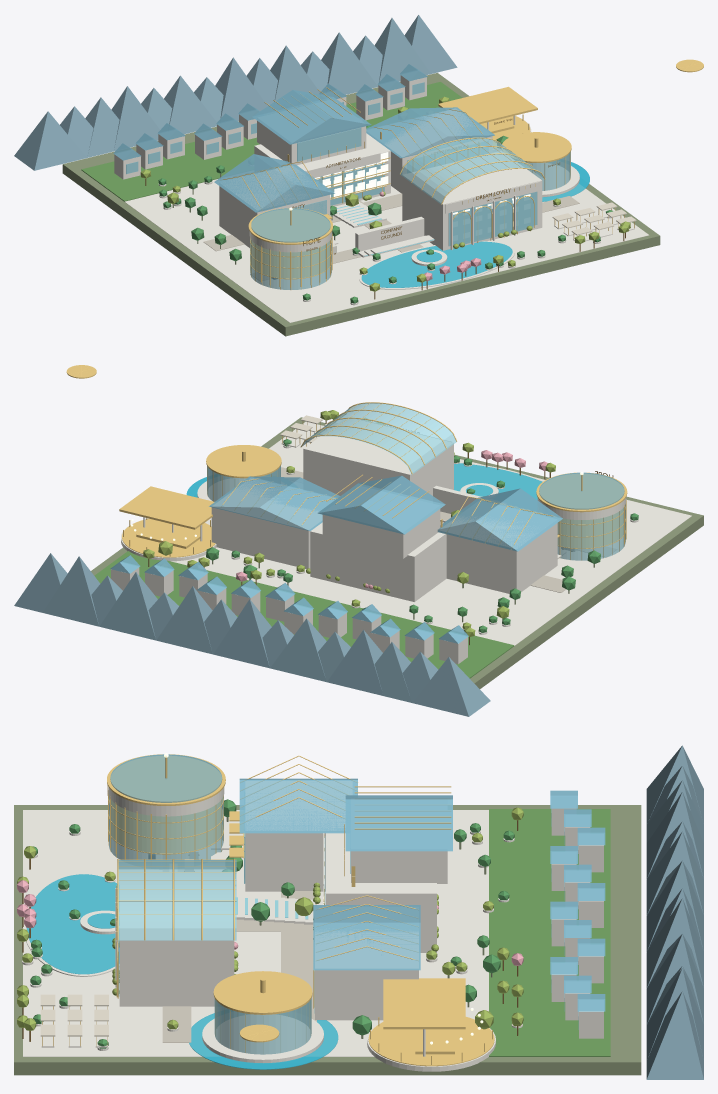
The model's file is weave-company-grounds.glb.
3 views of the same model, one above another, from view 1: azimuth 30°, elevation 25°; view 2: azimuth 150°, elevation 25°; view 3: azimuth 270°, elevation 25° (orthographic). The views are drawn at different scales.
Visible parts, largest first — view 1: ENV_porcelain_campus, ENV_terrain, DREAM_enterprise_ground, ENV_client_estate_hills, DREAM_GLASS_VAULT_CURVED, STABILITY_glass_gable, MANAGEMENT_glass_roof, ADMIN_roof_atrium, WATER_elliptical_marble_rim, WATER_central_lagoon, STABILITY_distribution_hall, HOPE_glass_studio (+39 smaller); view 2: ENV_porcelain_campus, DREAM_enterprise_ground, STABILITY_distribution_hall, ADMIN_main_portico, MANAGEMENT_main, ENV_terrain, ENV_client_estate_hills, DREAM_GLASS_VAULT_CURVED, STABILITY_glass_gable, MANAGEMENT_glass_roof, ADMIN_roof_atrium, ADMIN_upper_floor (+34 smaller); view 3: ENV_porcelain_campus, ENV_terrain, ENV_client_estate_hills, DREAM_enterprise_ground, DREAM_GLASS_VAULT_CURVED, STABILITY_distribution_hall, MANAGEMENT_main, MANAGEMENT_glass_roof, WATER_elliptical_marble_rim, WATER_central_lagoon, ADMIN_roof_atrium, STABILITY_glass_gable (+46 smaller).
Boxes of the visible parts, x1=… form: ENV_porcelain_campus: x1=125, y1=179, x2=648, y2=322; ENV_terrain: x1=62, y1=73, x2=660, y2=336; DREAM_enterprise_ground: x1=402, y1=151, x2=542, y2=250; ENV_client_estate_hills: x1=81, y1=82, x2=462, y2=201; DREAM_GLASS_VAULT_CURVED: x1=399, y1=138, x2=543, y2=204; STABILITY_glass_gable: x1=214, y1=154, x2=334, y2=212; MANAGEMENT_glass_roof: x1=366, y1=107, x2=494, y2=158; ADMIN_roof_atrium: x1=252, y1=90, x2=371, y2=144; WATER_elliptical_marble_rim: x1=359, y1=241, x2=514, y2=289; WATER_central_lagoon: x1=361, y1=241, x2=512, y2=287; STABILITY_distribution_hall: x1=219, y1=165, x2=330, y2=247; HOPE_glass_studio: x1=250, y1=238, x2=331, y2=289; ENV_porcelain_campus: x1=171, y1=421, x2=691, y2=645; DREAM_enterprise_ground: x1=303, y1=417, x2=453, y2=495; STABILITY_distribution_hall: x1=440, y1=516, x2=557, y2=593; ADMIN_main_portico: x1=310, y1=522, x2=446, y2=601; MANAGEMENT_main: x1=211, y1=478, x2=322, y2=568; ENV_terrain: x1=91, y1=417, x2=703, y2=688; ENV_client_estate_hills: x1=94, y1=551, x2=514, y2=678; DREAM_GLASS_VAULT_CURVED: x1=300, y1=403, x2=456, y2=474; STABILITY_glass_gable: x1=437, y1=488, x2=562, y2=551; MANAGEMENT_glass_roof: x1=209, y1=476, x2=340, y2=531; ADMIN_roof_atrium: x1=317, y1=475, x2=445, y2=534; ADMIN_upper_floor: x1=322, y1=509, x2=440, y2=558; ENV_porcelain_campus: x1=23, y1=810, x2=488, y2=1056; ENV_terrain: x1=14, y1=805, x2=641, y2=1075; ENV_client_estate_hills: x1=489, y1=809, x2=610, y2=1056; DREAM_enterprise_ground: x1=119, y1=872, x2=234, y2=1006; DREAM_GLASS_VAULT_CURVED: x1=118, y1=860, x2=236, y2=940; STABILITY_distribution_hall: x1=245, y1=781, x2=352, y2=891; MANAGEMENT_main: x1=315, y1=929, x2=418, y2=1020; MANAGEMENT_glass_roof: x1=313, y1=905, x2=420, y2=970; WATER_elliptical_marble_rim: x1=23, y1=873, x2=119, y2=976; WATER_central_lagoon: x1=26, y1=874, x2=119, y2=974; ADMIN_roof_atrium: x1=345, y1=795, x2=452, y2=851; STABILITY_glass_gable: x1=239, y1=778, x2=357, y2=833.
Size of the model in its own units: 240 by 40.2 by 192.
